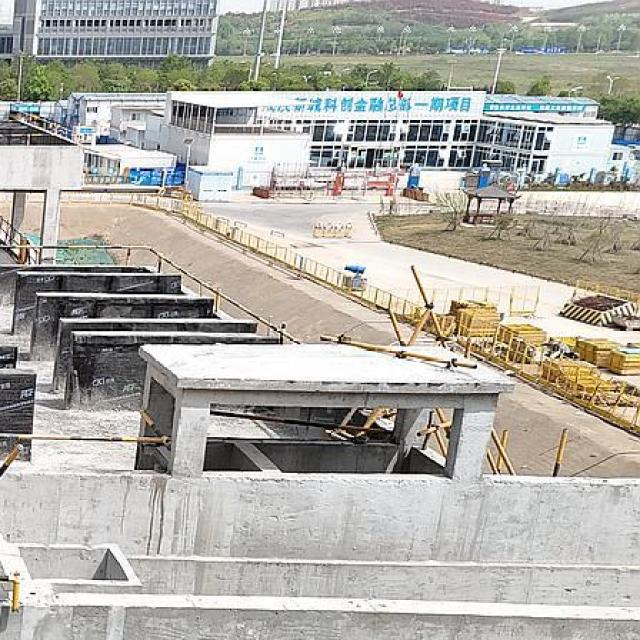edge_guardrail: (0, 243, 306, 347), (0, 406, 171, 447), (0, 112, 57, 147), (0, 571, 20, 613), (0, 443, 21, 479)
